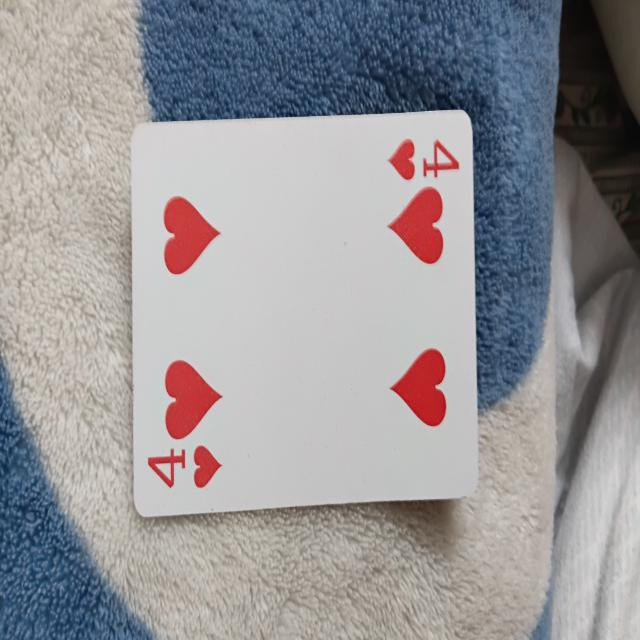4H: (125, 121, 480, 502)
